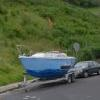Boat: (15, 42, 78, 85)
